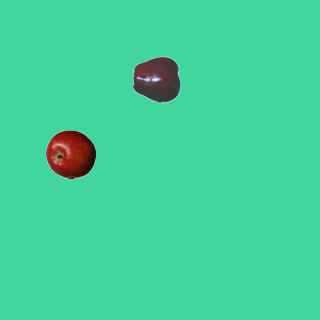Apple Braeburn: (45, 129, 95, 179)
Apple Red Delicious: (132, 54, 182, 104)
